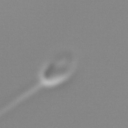normal: (1, 80, 42, 124)
